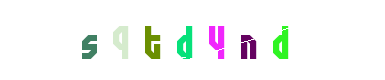4: (177, 0, 257, 80)
9: (111, 0, 191, 80)
D: (152, 0, 232, 80), (241, 0, 321, 80)
N: (208, 0, 288, 80)
S: (49, 0, 129, 80)
T: (145, 0, 225, 80)
